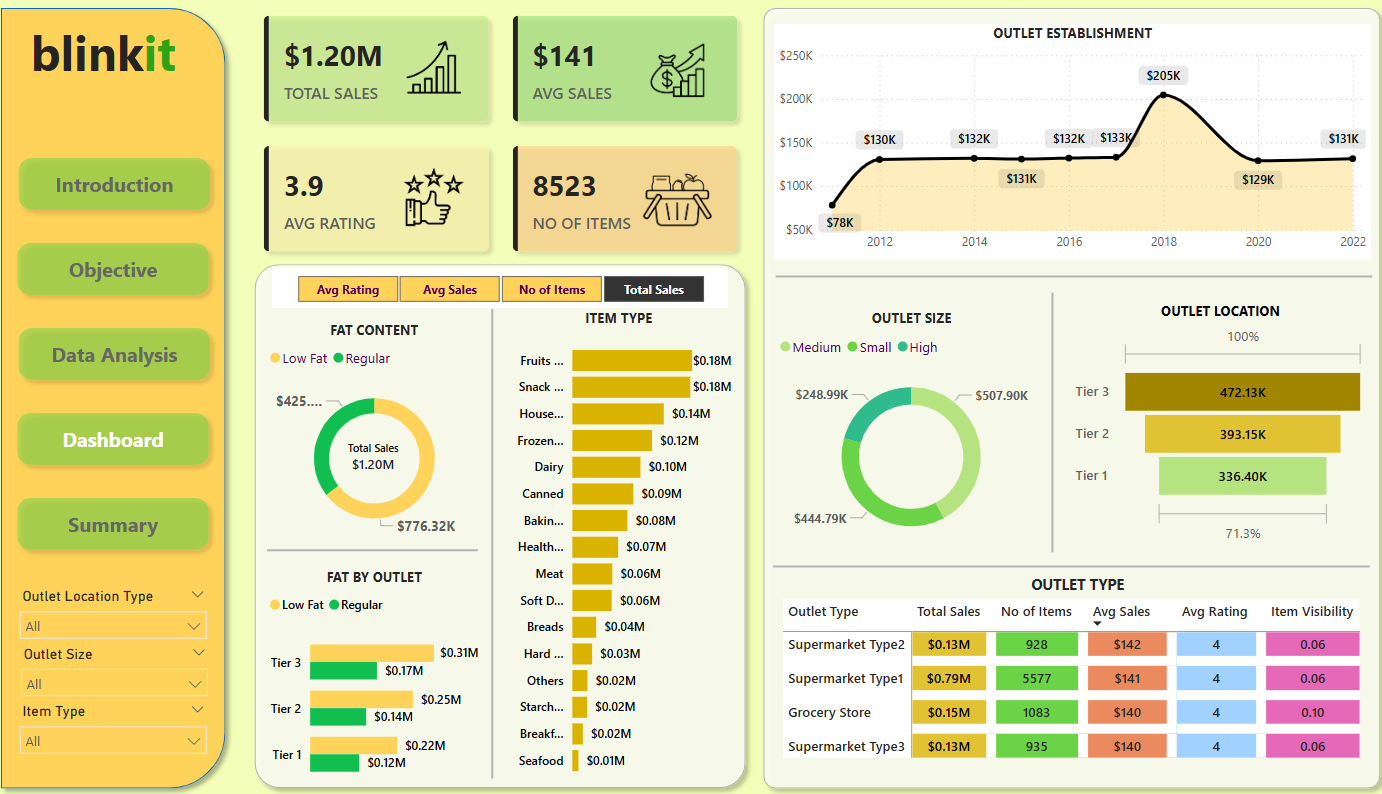

The page's visual inventory and layout, read from the dashboard file:
{"tool":"powerbi","page":{"name":"Dashboard","canvas":[1400,800],"ordinal":3},"visuals":[{"type":"cardVisual","fields":{"Data":["BlinkIT-Grocery-Data.Total Sales","BlinkIT-Grocery-Data.Avg Sales","BlinkIT-Grocery-Data.Avg Rating","BlinkIT-Grocery-Data.No of Items"]},"box":[255.6,0,508.7,270.9],"z":0},{"type":"shape","box":[0,0,242.9,800],"z":1000},{"type":"textbox","box":[34.3,15.3,173,83.9],"z":2000},{"type":"shape","box":[254.4,256.9,510,543.1],"z":3000},{"type":"slicer","fields":{"Values":["Metrics.Metrics"]},"box":[281.1,270.9,456.6,39.4],"z":4000},{"type":"donutChart","title":"FAT CONTENT","fields":{"Y":["BlinkIT-Grocery-Data.Total Sales"],"Category":["BlinkIT-Grocery-Data.Item Fat Content"]},"box":[273.4,321.8,220,230.2],"z":5000},{"type":"cardVisual","fields":{"Data":["BlinkIT-Grocery-Data.Total Sales"]},"box":[337,426.1,90.3,64.9],"z":6000},{"type":"clusteredBarChart","title":"FAT BY OUTLET","fields":{"Y":["BlinkIT-Grocery-Data.Total Sales"],"Category":["BlinkIT-Grocery-Data.Outlet Location Type"],"Series":["BlinkIT-Grocery-Data.Item Fat Content"]},"box":[273.4,569.8,220,230.2],"z":7000},{"type":"shape","box":[276,541.8,211.1,20.3],"z":8000},{"type":"shape","box":[482,310.3,38.2,470.6],"z":9000},{"type":"barChart","title":"ITEM TYPE","fields":{"Y":["BlinkIT-Grocery-Data.Total Sales"],"Category":["BlinkIT-Grocery-Data.Item Type"]},"box":[510,310.3,236.6,479.5],"z":10000},{"type":"shape","box":[764.4,0,635.9,800],"z":11000},{"type":"lineChart","title":"OUTLET ESTABLISHMENT","fields":{"Category":["BlinkIT-Grocery-Data.Outlet Establishment Year"],"Y":["BlinkIT-Grocery-Data.Total Sales"]},"box":[783.8,25,597.5,236.2],"z":12000},{"type":"shape","box":[785,267.5,597.5,20],"z":13000},{"type":"donutChart","title":"OUTLET SIZE","fields":{"Y":["BlinkIT-Grocery-Data.Total Sales"],"Category":["BlinkIT-Grocery-Data.Outlet Size"]},"box":[783.4,310.3,274.7,249.3],"z":14000},{"type":"funnel","title":"OUTLET LOCATION","fields":{"Category":["BlinkIT-Grocery-Data.Outlet Location Type"],"Y":["Sum(BlinkIT-Grocery-Data.Sales)"]},"box":[1081,302.7,300.1,248],"z":15000},{"type":"pivotTable","title":"OUTLET TYPE","fields":{"Rows":["BlinkIT-Grocery-Data.Outlet Type"],"Values":["BlinkIT-Grocery-Data.Total Sales","BlinkIT-Grocery-Data.No of Items","BlinkIT-Grocery-Data.Avg Sales","BlinkIT-Grocery-Data.Avg Rating","Avg(BlinkIT-Grocery-Data.Item Visibility)"]},"box":[787.5,576.2,600,191.2],"z":16000},{"type":"shape","box":[782.5,558.8,597.5,20],"z":17000},{"type":"shape","box":[1043.8,293.8,38.8,260],"z":18000},{"type":"slicer","fields":{"Values":["BlinkIT-Grocery-Data.Outlet Location Type"]},"box":[17.8,585,207.3,63.6],"z":19000},{"type":"slicer","fields":{"Values":["BlinkIT-Grocery-Data.Outlet Size"]},"box":[19.1,642.3,207.3,63.6],"z":20000},{"type":"slicer","fields":{"Values":["BlinkIT-Grocery-Data.Item Type"]},"box":[17.8,699.5,207.3,63.6],"z":21000},{"type":"actionButton","box":[18.1,150.1,210,70],"z":22000},{"type":"actionButton","box":[16.8,235.3,210,70],"z":23000},{"type":"actionButton","box":[18.1,320.5,210,70],"z":24000},{"type":"actionButton","box":[16.8,405.7,210,70],"z":25000},{"type":"actionButton","box":[16.8,490.9,210,70],"z":26000}]}

Visuals, with their boxes in screenshot pixels (x1, y1, x2, y2), scaled from the page's 1400x800 canvas onto the 1382x794 screenshot:
cardVisual - BlinkIT-Grocery-Data.Total Sales x BlinkIT-Grocery-Data.Avg Sales: bbox=(252, 0, 754, 269)
shape: bbox=(0, 0, 240, 793)
textbox: bbox=(34, 15, 205, 98)
shape: bbox=(251, 255, 755, 793)
slicer - Metrics.Metrics: bbox=(277, 269, 728, 308)
"FAT CONTENT" donutChart: bbox=(270, 319, 487, 548)
cardVisual - BlinkIT-Grocery-Data.Total Sales: bbox=(333, 423, 422, 487)
"FAT BY OUTLET" clusteredBarChart: bbox=(270, 566, 487, 793)
shape: bbox=(272, 538, 481, 558)
shape: bbox=(476, 308, 514, 775)
"ITEM TYPE" barChart: bbox=(503, 308, 737, 784)
shape: bbox=(755, 0, 1381, 793)
"OUTLET ESTABLISHMENT" lineChart: bbox=(774, 25, 1364, 259)
shape: bbox=(775, 265, 1365, 285)
"OUTLET SIZE" donutChart: bbox=(773, 308, 1044, 555)
"OUTLET LOCATION" funnel: bbox=(1067, 300, 1363, 547)
"OUTLET TYPE" pivotTable: bbox=(777, 572, 1370, 762)
shape: bbox=(772, 555, 1362, 574)
shape: bbox=(1030, 292, 1069, 550)
slicer - BlinkIT-Grocery-Data.Outlet Location Type: bbox=(18, 581, 222, 644)
slicer - BlinkIT-Grocery-Data.Outlet Size: bbox=(19, 637, 223, 701)
slicer - BlinkIT-Grocery-Data.Item Type: bbox=(18, 694, 222, 757)
actionButton: bbox=(18, 149, 225, 218)
actionButton: bbox=(17, 234, 224, 303)
actionButton: bbox=(18, 318, 225, 388)
actionButton: bbox=(17, 403, 224, 472)
actionButton: bbox=(17, 487, 224, 557)
